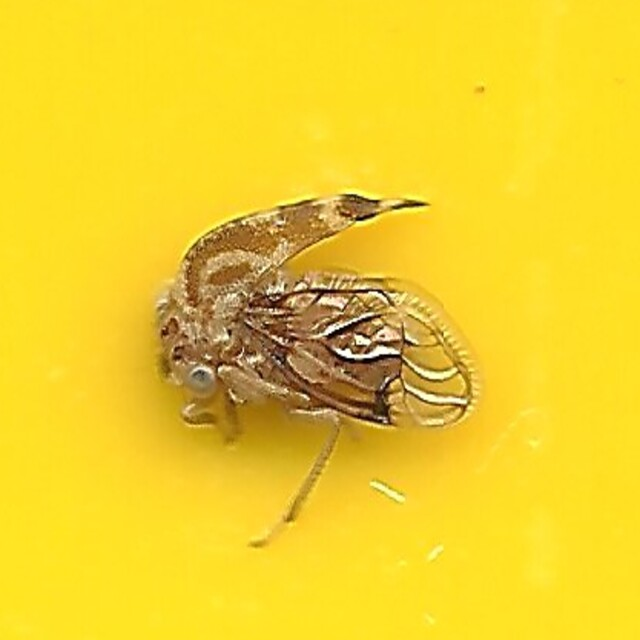Hemiptera: (153, 190, 487, 450)
